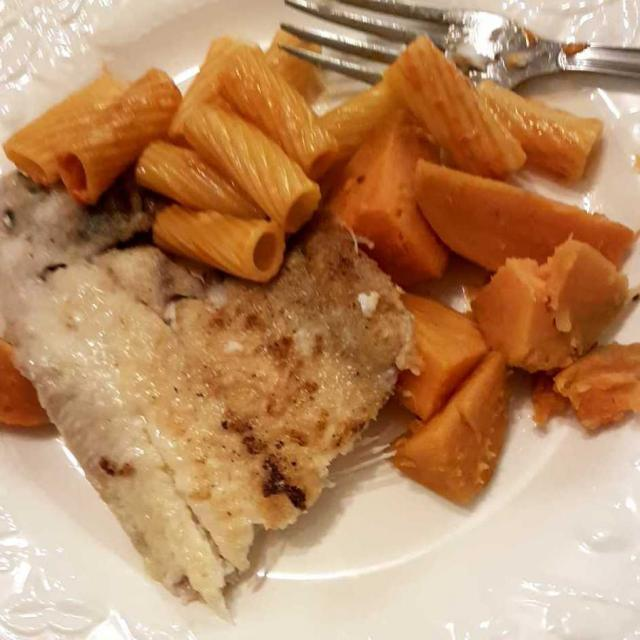fish: (0, 171, 429, 595)
sweet-potato: (336, 101, 621, 518)
